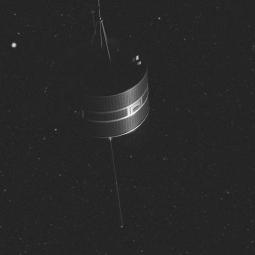double_start: (64, 37, 170, 152)
